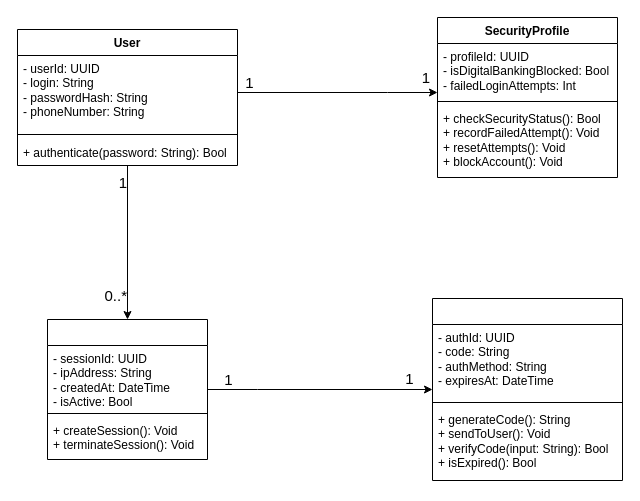
Image size: 640x501. Some labels were removed from this diagram. Here are the shapes that lost their labels. From the top down, the box of each, then its label:
(46, 318, 208, 460): AuthSession
(432, 298, 622, 480): TwoFactorAuth
